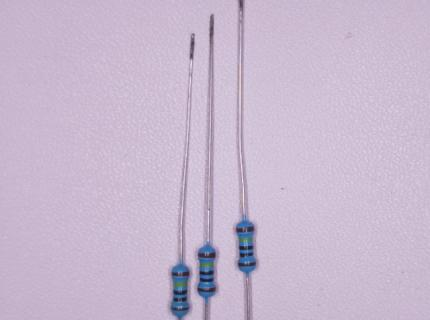Black band: (173, 297, 188, 302), (173, 290, 187, 295), (199, 271, 213, 275), (239, 246, 253, 250), (240, 253, 254, 257), (201, 278, 214, 282)
Brown band: (236, 226, 254, 232), (198, 253, 216, 258), (198, 287, 216, 292), (172, 271, 189, 276), (238, 262, 256, 266), (171, 307, 189, 310)
Yellow band: (173, 282, 187, 287), (239, 238, 253, 242), (200, 263, 214, 267)
